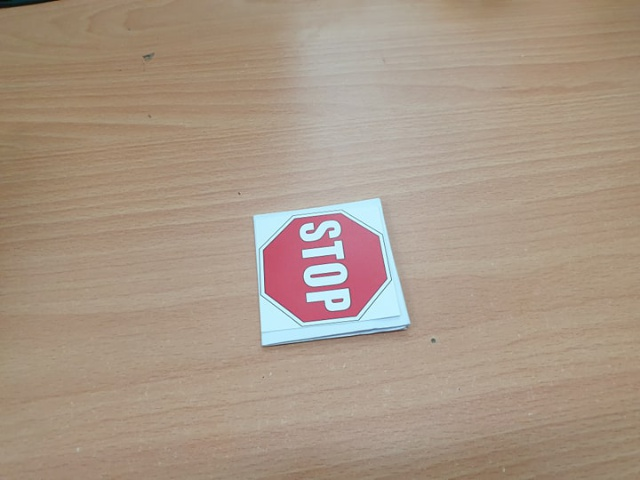Stop: (256, 210, 391, 324)
